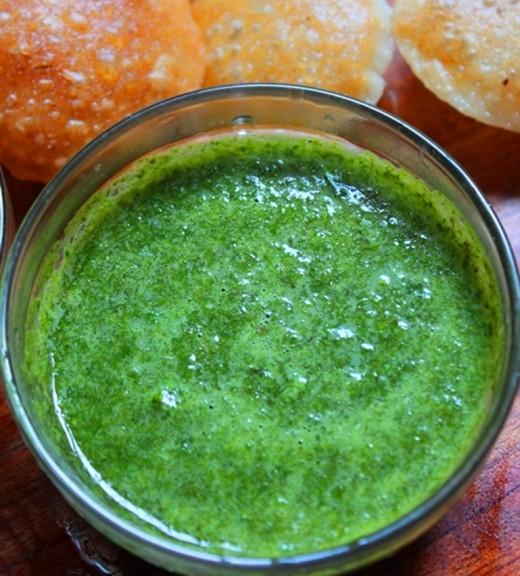GreenChutney: (32, 138, 498, 556)
